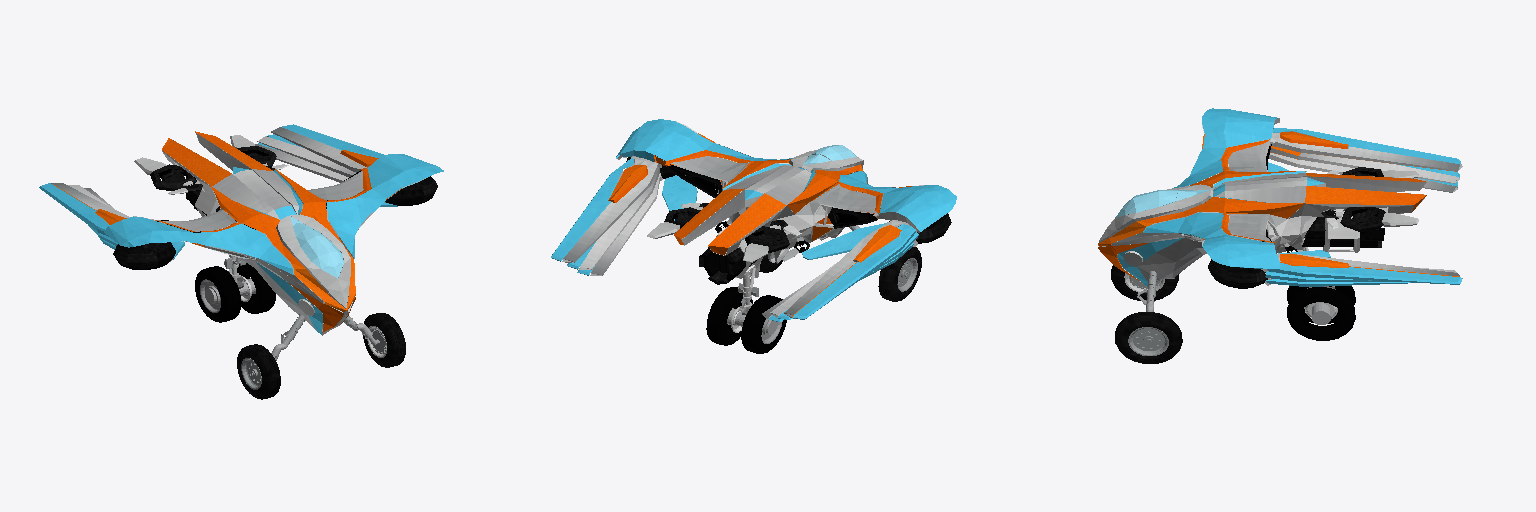
3 renders of one model, left to right at view 1: azimuth 30°, elevation 25°; view 2: azimuth 150°, elevation 25°; view 3: azimuth 270°, elevation 25°, orthographic.
Parts seen in each view (by area): view 1: PartePlata, ParteNaranja, AlaIzqAzul, AlaDerechaAzul, ParteNegra, mirage_2000_polySurface153, Cristal, LLantaNAve2, mirage_2000_polySurface127, mirage_2000_polySurface49, ParteAzul5; view 2: PartePlata, ParteNaranja, AlaIzqAzul, AlaDerechaAzul, ParteNegra, PARTEaZUL3, mirage_2000_polySurface49, mirage_2000_polySurface153, LLantaNAve2, Cristal; view 3: PartePlata, ParteNaranja, AlaDerechaAzul, AlaIzqAzul, ParteNegra, mirage_2000_polySurface49, mirage_2000_polySurface127, Cristal, mirage_2000_polySurface129, LLantaNAve2, ParteAzul5.
Part boxes in pixels (x1,y1,x2,y2): PartePlata: (51, 127, 425, 335); ParteNaranja: (54, 131, 401, 332); AlaIzqAzul: (39, 183, 293, 274); AlaDerechaAzul: (258, 124, 443, 258); ParteNegra: (113, 146, 437, 269); mirage_2000_polySurface153: (195, 266, 240, 322); Cristal: (290, 216, 343, 278); LLantaNAve2: (237, 344, 280, 399); mirage_2000_polySurface127: (363, 313, 405, 367); mirage_2000_polySurface49: (237, 263, 275, 313); ParteAzul5: (256, 262, 353, 334); PartePlata: (562, 121, 923, 318); ParteNaranja: (608, 133, 911, 317); AlaIzqAzul: (769, 171, 956, 321); AlaDerechaAzul: (551, 119, 792, 275); ParteNegra: (626, 157, 951, 284); PARTEaZUL3: (662, 175, 887, 259); mirage_2000_polySurface49: (706, 287, 752, 345); mirage_2000_polySurface153: (741, 295, 786, 353); LLantaNAve2: (878, 247, 921, 301); Cristal: (803, 145, 856, 164); PartePlata: (1099, 118, 1462, 286); ParteNaranja: (1098, 131, 1458, 282); AlaDerechaAzul: (1143, 212, 1461, 286); AlaIzqAzul: (1172, 108, 1461, 188); ParteNegra: (1208, 144, 1385, 288); mirage_2000_polySurface49: (1287, 287, 1355, 340); mirage_2000_polySurface127: (1115, 312, 1182, 363); Cristal: (1115, 190, 1209, 217); mirage_2000_polySurface129: (1128, 327, 1168, 355); LLantaNAve2: (1111, 265, 1178, 300); ParteAzul5: (1117, 202, 1182, 285).
Bounding box in the file's own units: 23.88 × 10.84 × 23.63.
Materials: 7 (5 with a texture image).